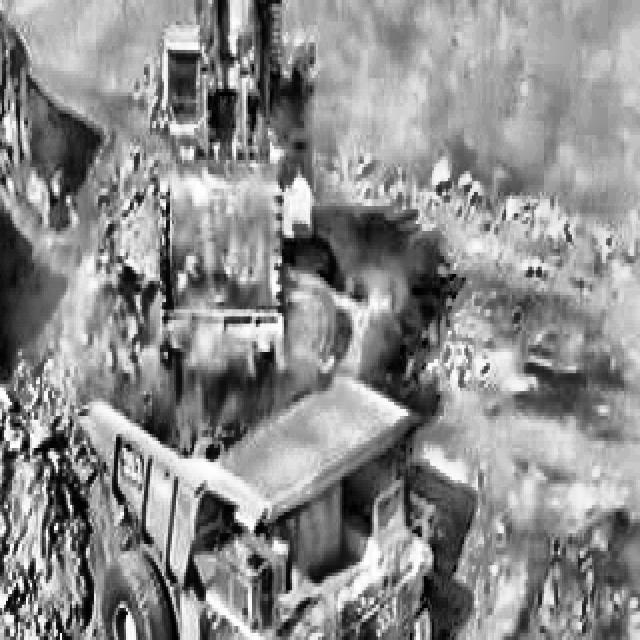dump_truck: (76, 384, 428, 640)
excavator: (136, 0, 324, 363)
